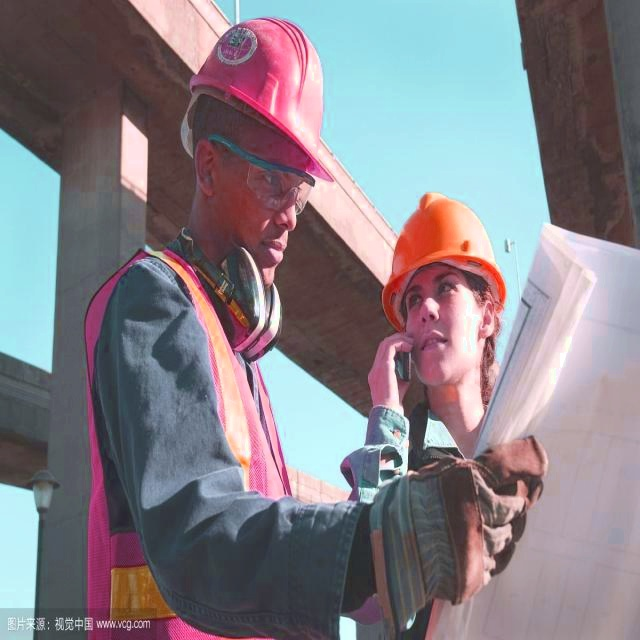Con_Casco: (185, 15, 327, 267), (381, 189, 504, 396)
Con_Chaleco: (84, 248, 302, 627)
